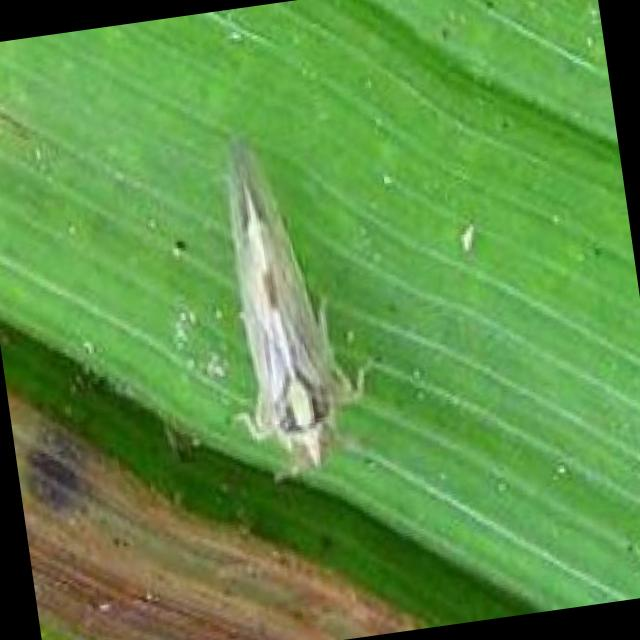brown-planthopper: (198, 147, 358, 476)
